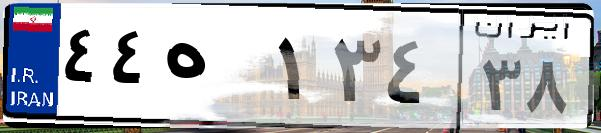1: (270, 28, 330, 110)
3: (330, 28, 385, 110), (475, 38, 525, 113)
4: (385, 28, 445, 110), (57, 26, 110, 100), (110, 28, 158, 98)
8: (525, 38, 570, 115)
ه: (158, 20, 270, 120)
